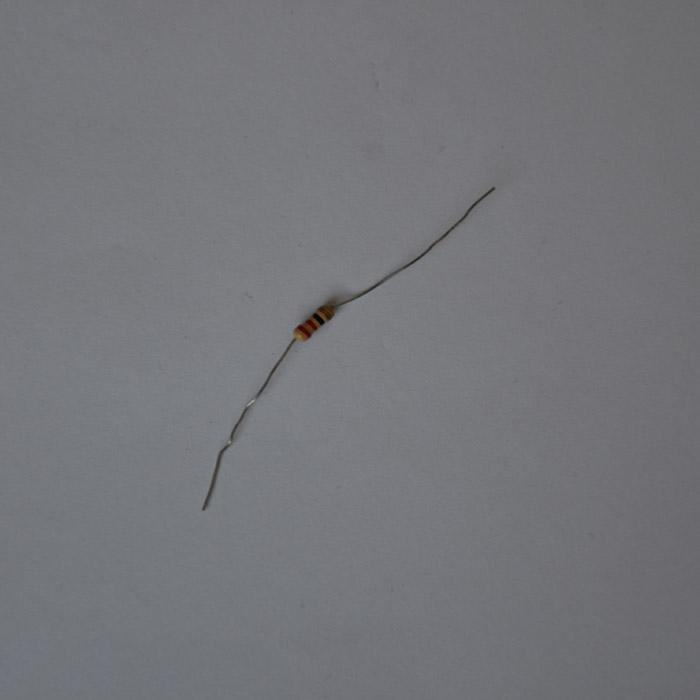resistor: (292, 303, 335, 343)
